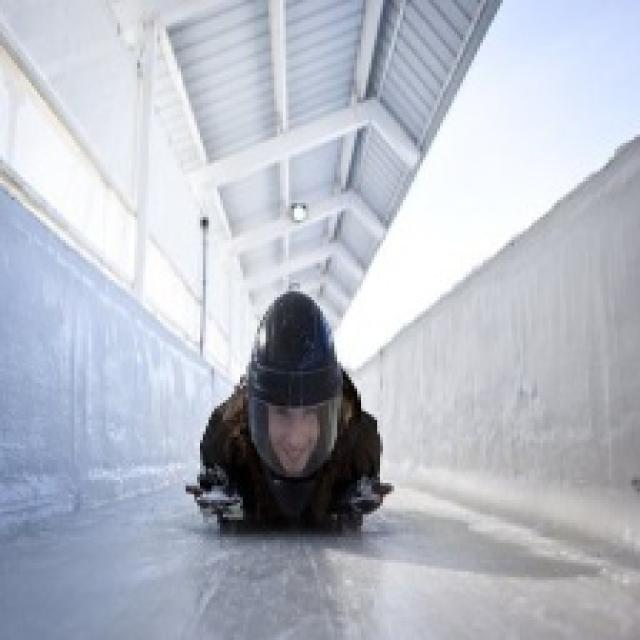luge: (179, 266, 401, 535)
